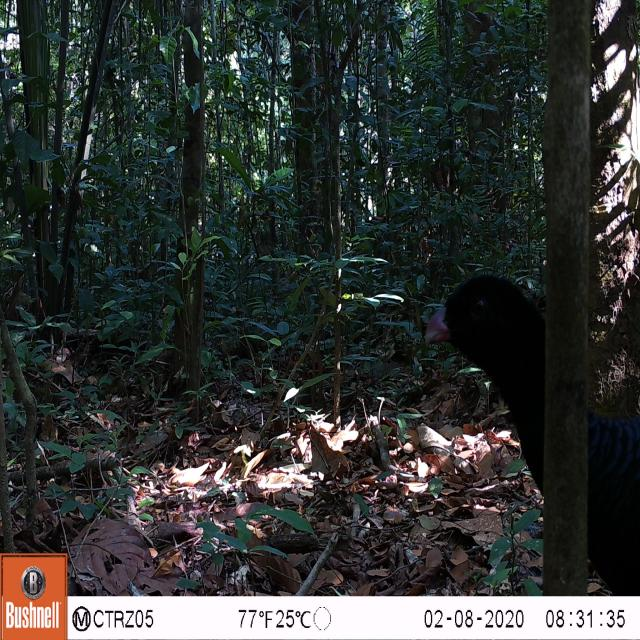Salvins Curassow: (396, 259, 640, 584)
